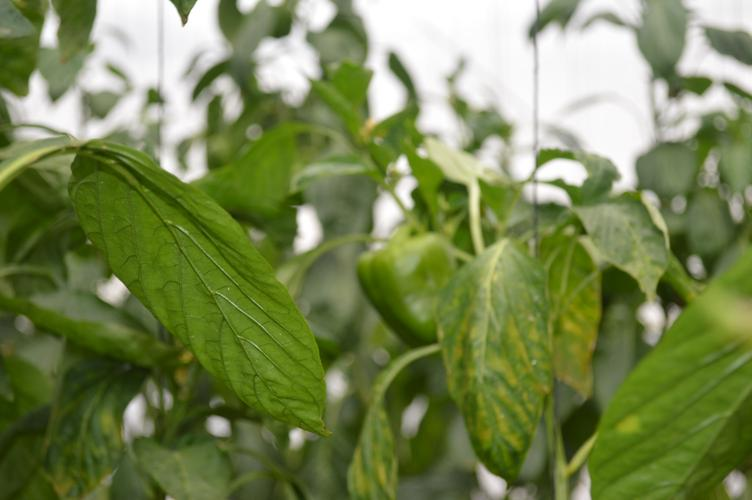BellPepper: (357, 233, 451, 345)
